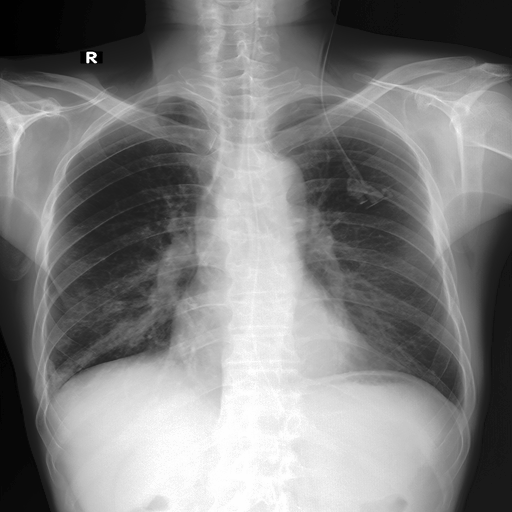Consolidation: (240, 152, 308, 217)
Pleural thickening: (44, 260, 149, 380)
